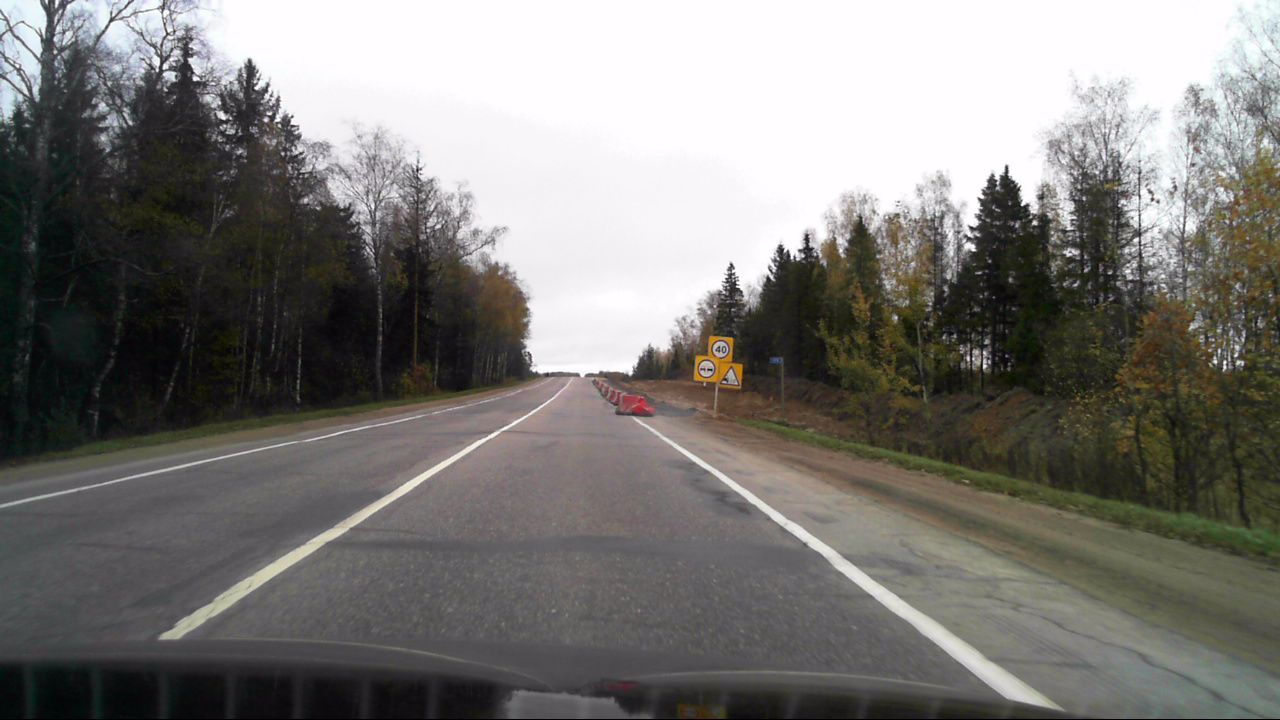speed_warning_40: (708, 336, 732, 361)
